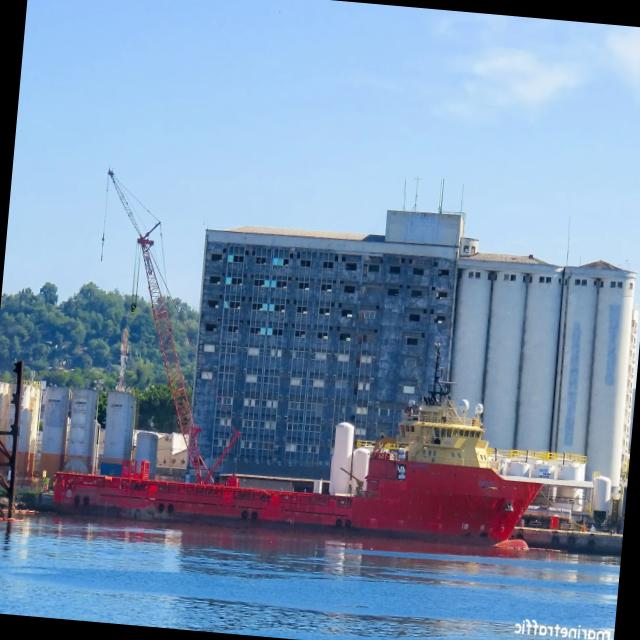Offshore: (53, 343, 541, 543)
